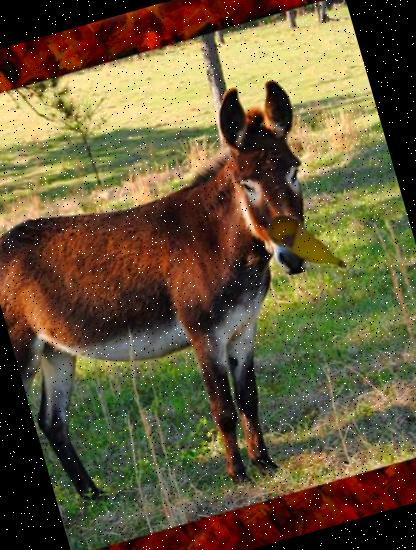Banana: (253, 189, 364, 300)
